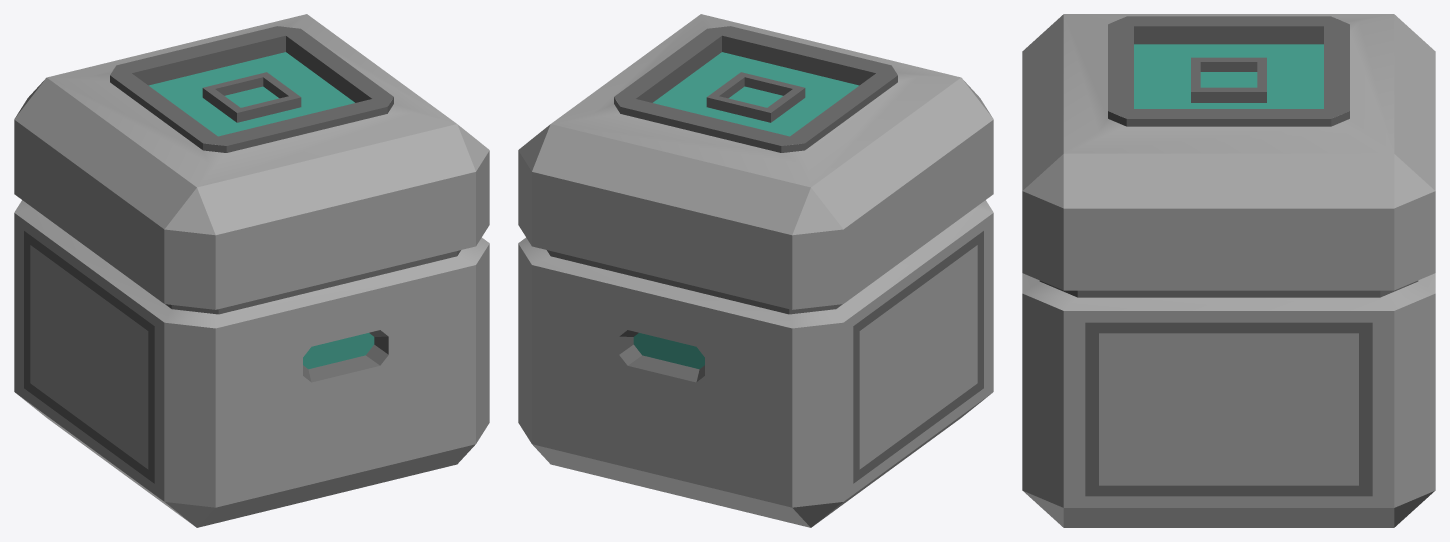
File: caisse.fbx
The picture shows the model from 3 angles, left to right: view 1: azimuth 30°, elevation 25°; view 2: azimuth 150°, elevation 25°; view 3: azimuth 270°, elevation 25°; orthographic projection. The views are drawn at different scales.
Parts seen in each view (by area): view 1: caisse; view 2: caisse; view 3: caisse.
Boxes of the visible parts, x1,y1,x2,y2 form: caisse: [14, 14, 489, 527]; caisse: [518, 14, 993, 527]; caisse: [1022, 14, 1435, 527].
Bounding box in the file's own units: 0.4907 × 0.5119 × 0.4907.
